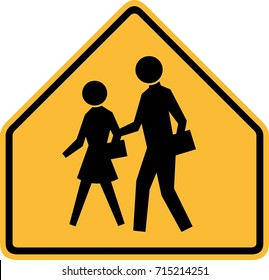pedestrian: (4, 7, 269, 257)
